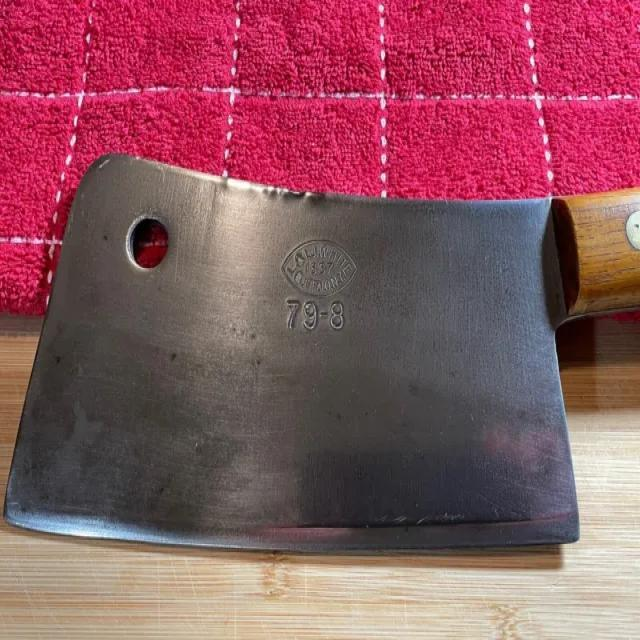cleaver: (10, 158, 640, 542)
